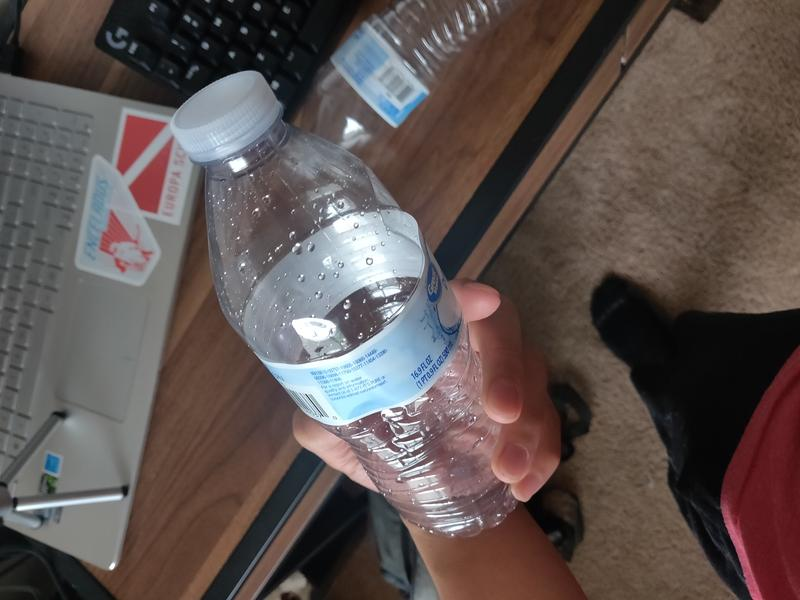bottle: (170, 69, 524, 539), (298, 1, 520, 153)
